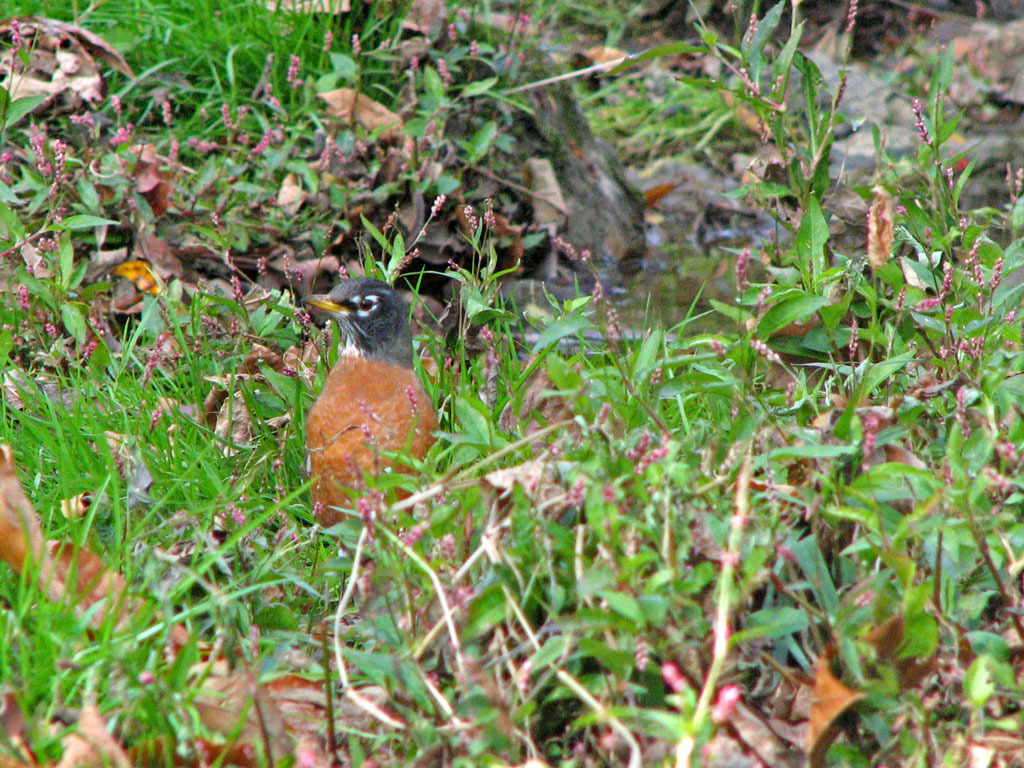Animal: (303, 278, 430, 516)
